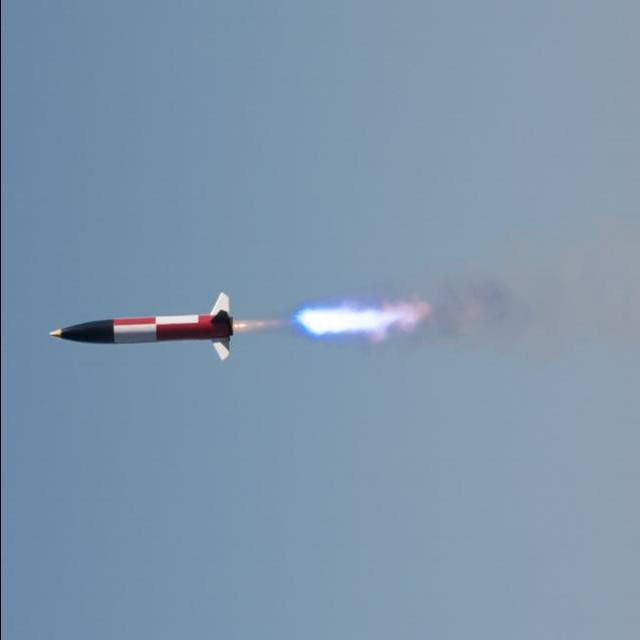missile: (53, 289, 233, 373)
